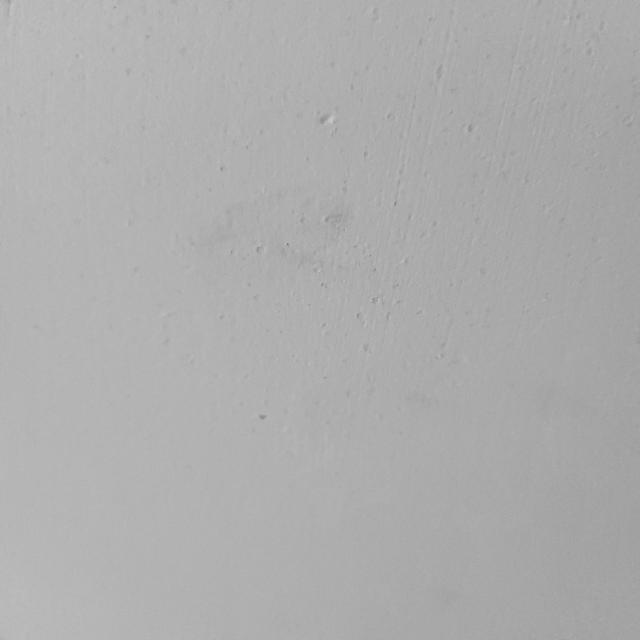rough and patchy surface: (273, 0, 640, 209), (203, 210, 559, 416), (24, 10, 268, 197)
